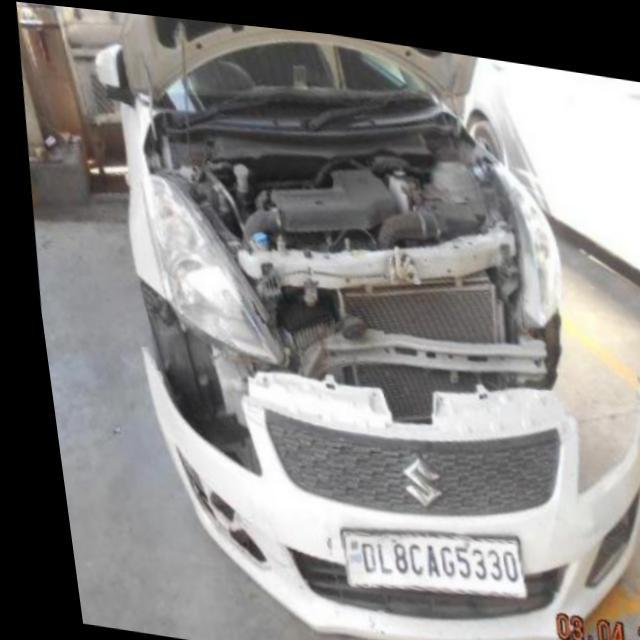no part: (131, 107, 551, 415)
